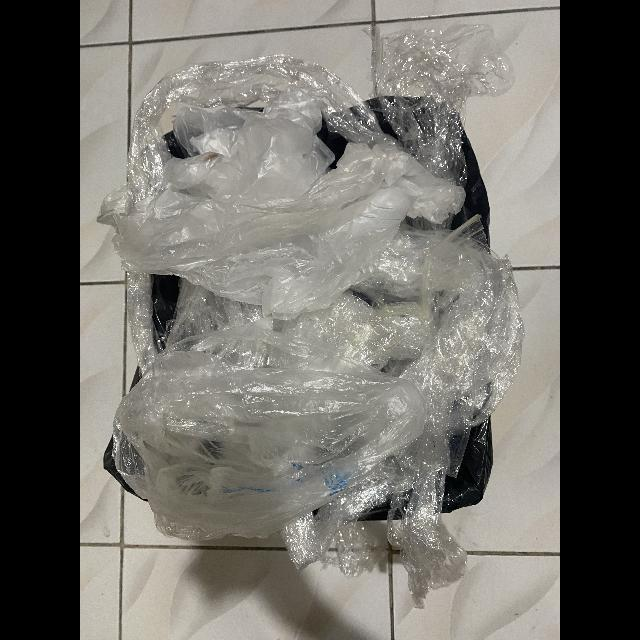plastic: (122, 99, 467, 314), (104, 323, 428, 542), (361, 214, 524, 608), (97, 55, 380, 227), (368, 25, 515, 188), (162, 279, 428, 369), (282, 450, 420, 577)
